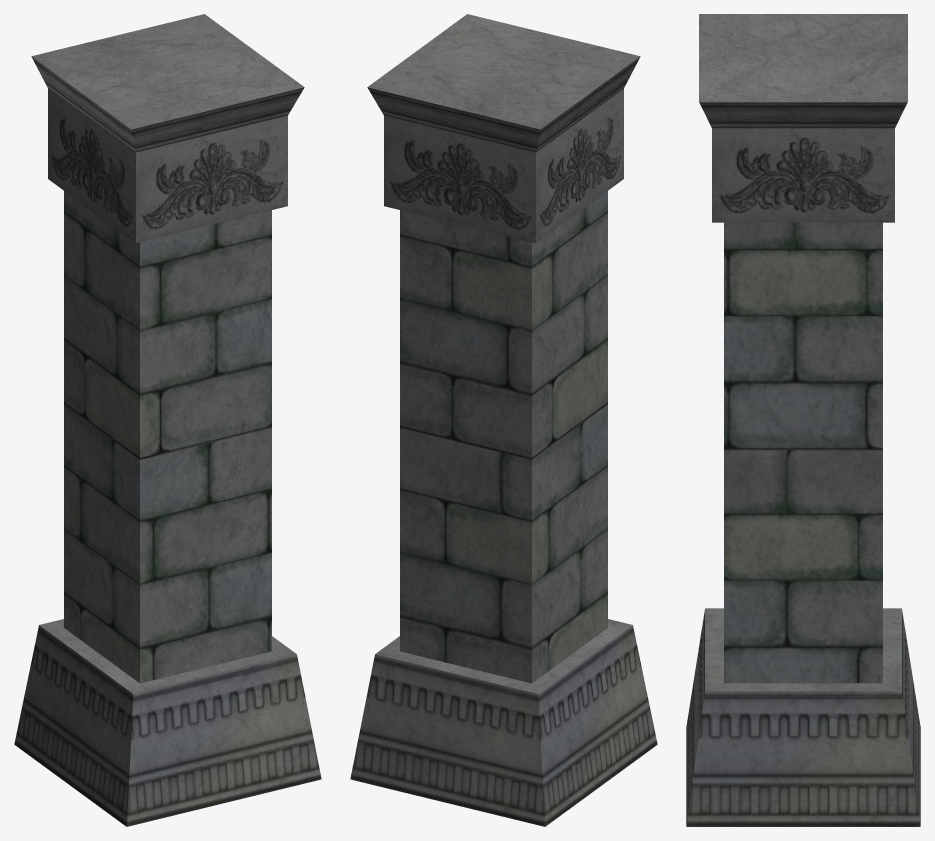
Rendered from pillar_02.glb.
3 views of the same model, side by side, from view 1: azimuth 30°, elevation 25°; view 2: azimuth 150°, elevation 25°; view 3: azimuth 270°, elevation 25° (orthographic). The views are drawn at different scales.
Visible parts, largest first — view 1: pillar_02; view 2: pillar_02; view 3: pillar_02.
Part boxes in pixels (<box>): pillar_02: <box>14,14,321,826</box>; pillar_02: <box>350,14,657,826</box>; pillar_02: <box>686,14,920,826</box>.
Bounding box in the file's own units: 0.8863 × 3 × 0.8863.
Materials: 1 (1 with a texture image).
